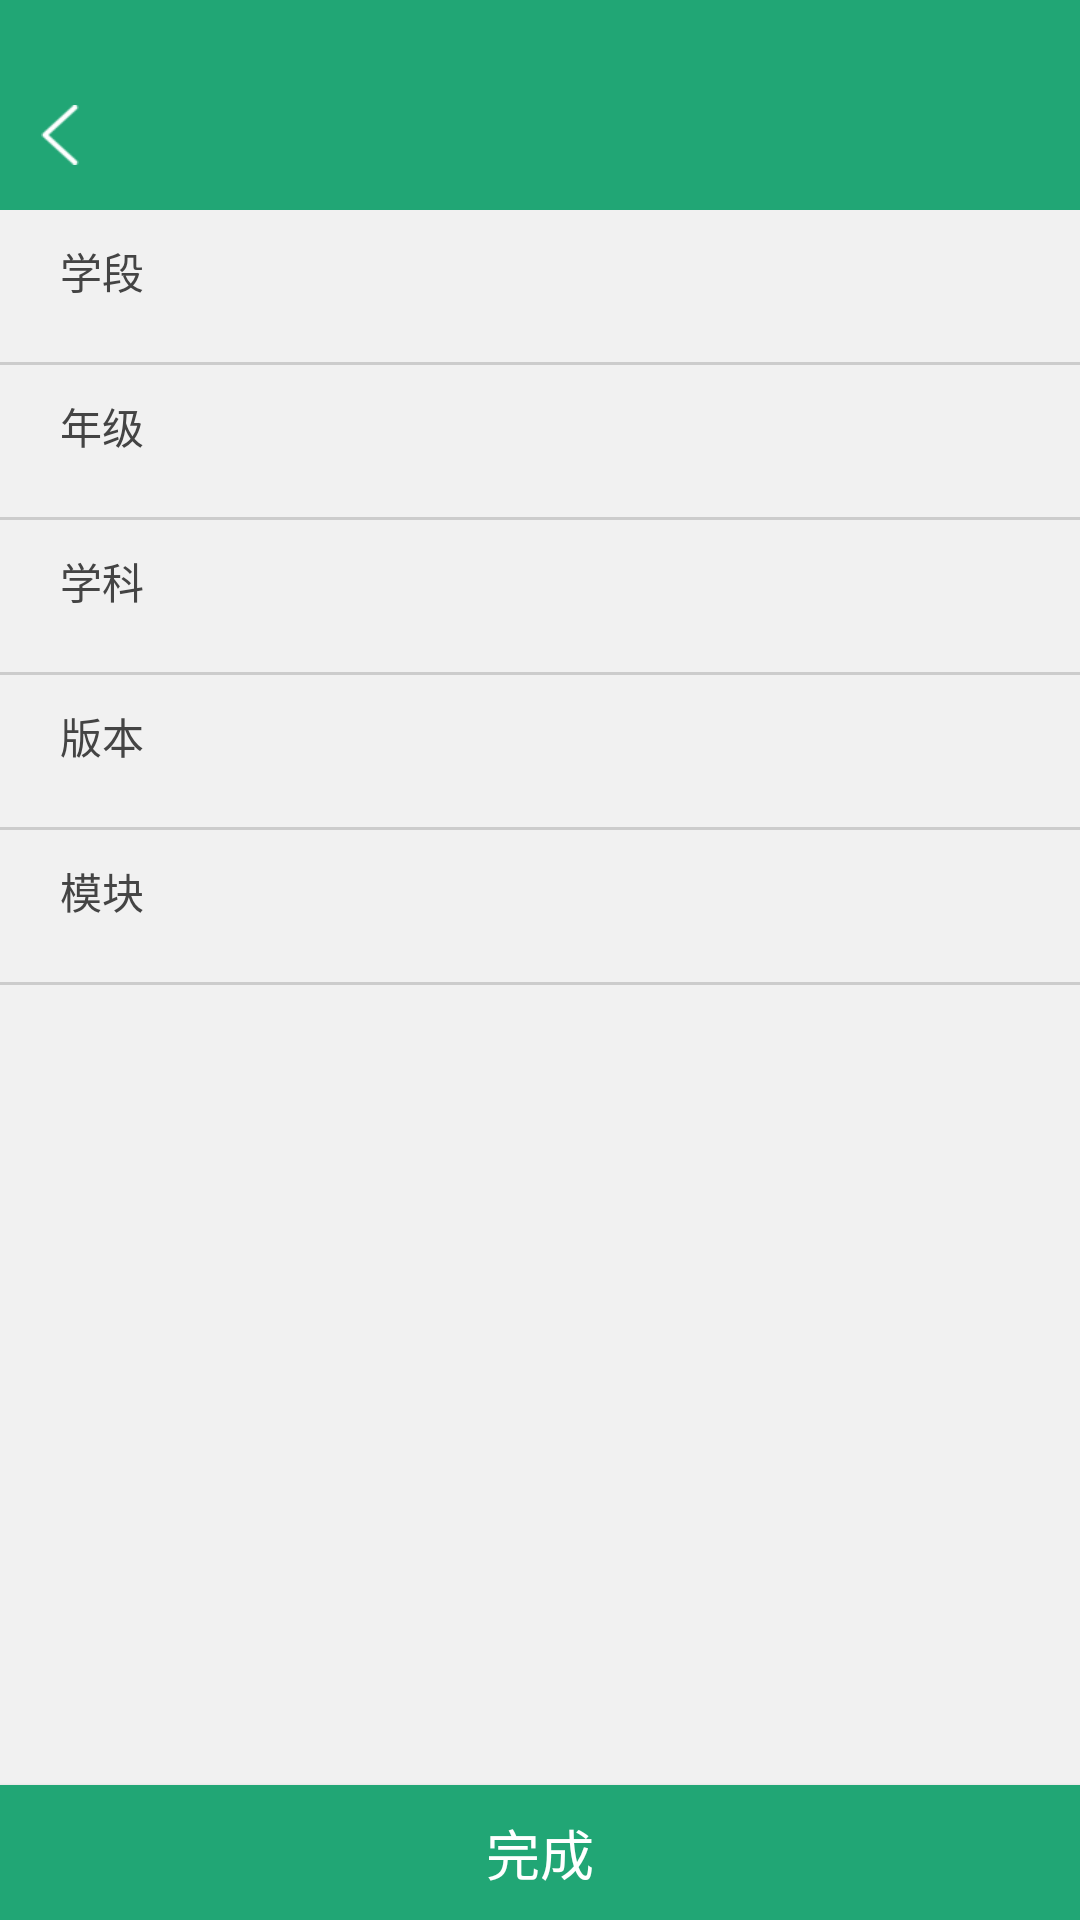

Point at icon controls on the screen. Image size 1080x1920, points as [x,y].
arrow left: [60,135]
